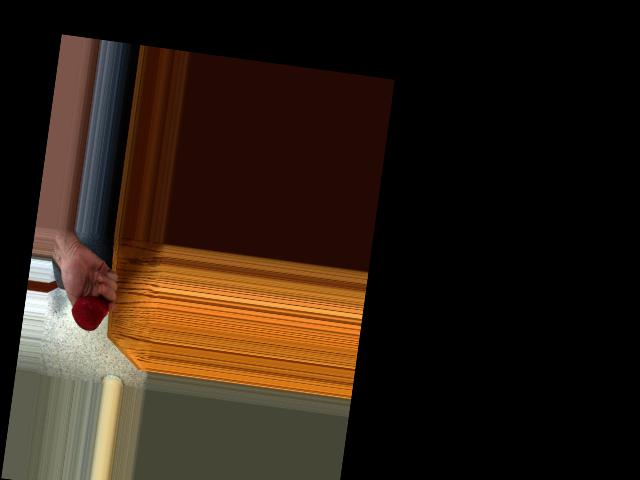apple: (68, 292, 109, 334)
